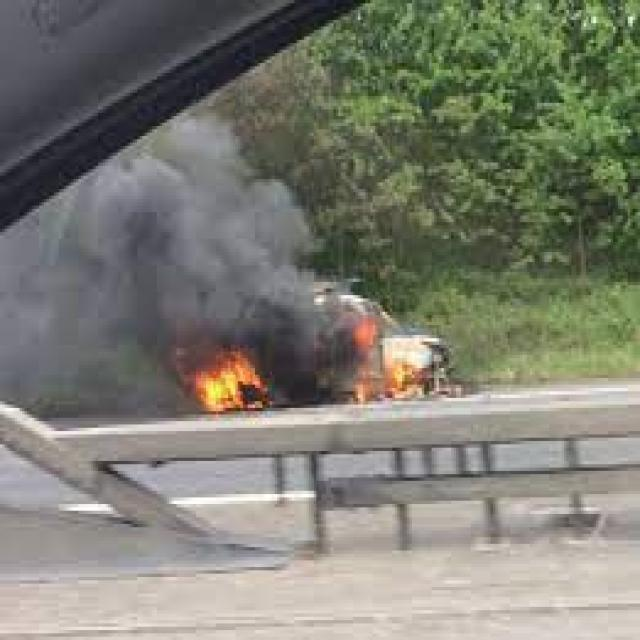Fire: (186, 336, 272, 409), (356, 314, 420, 402)
Smoke: (0, 105, 356, 409)
